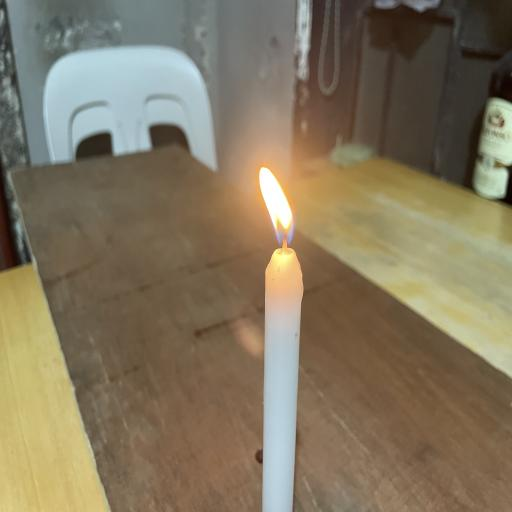fire: (247, 158, 308, 272)
